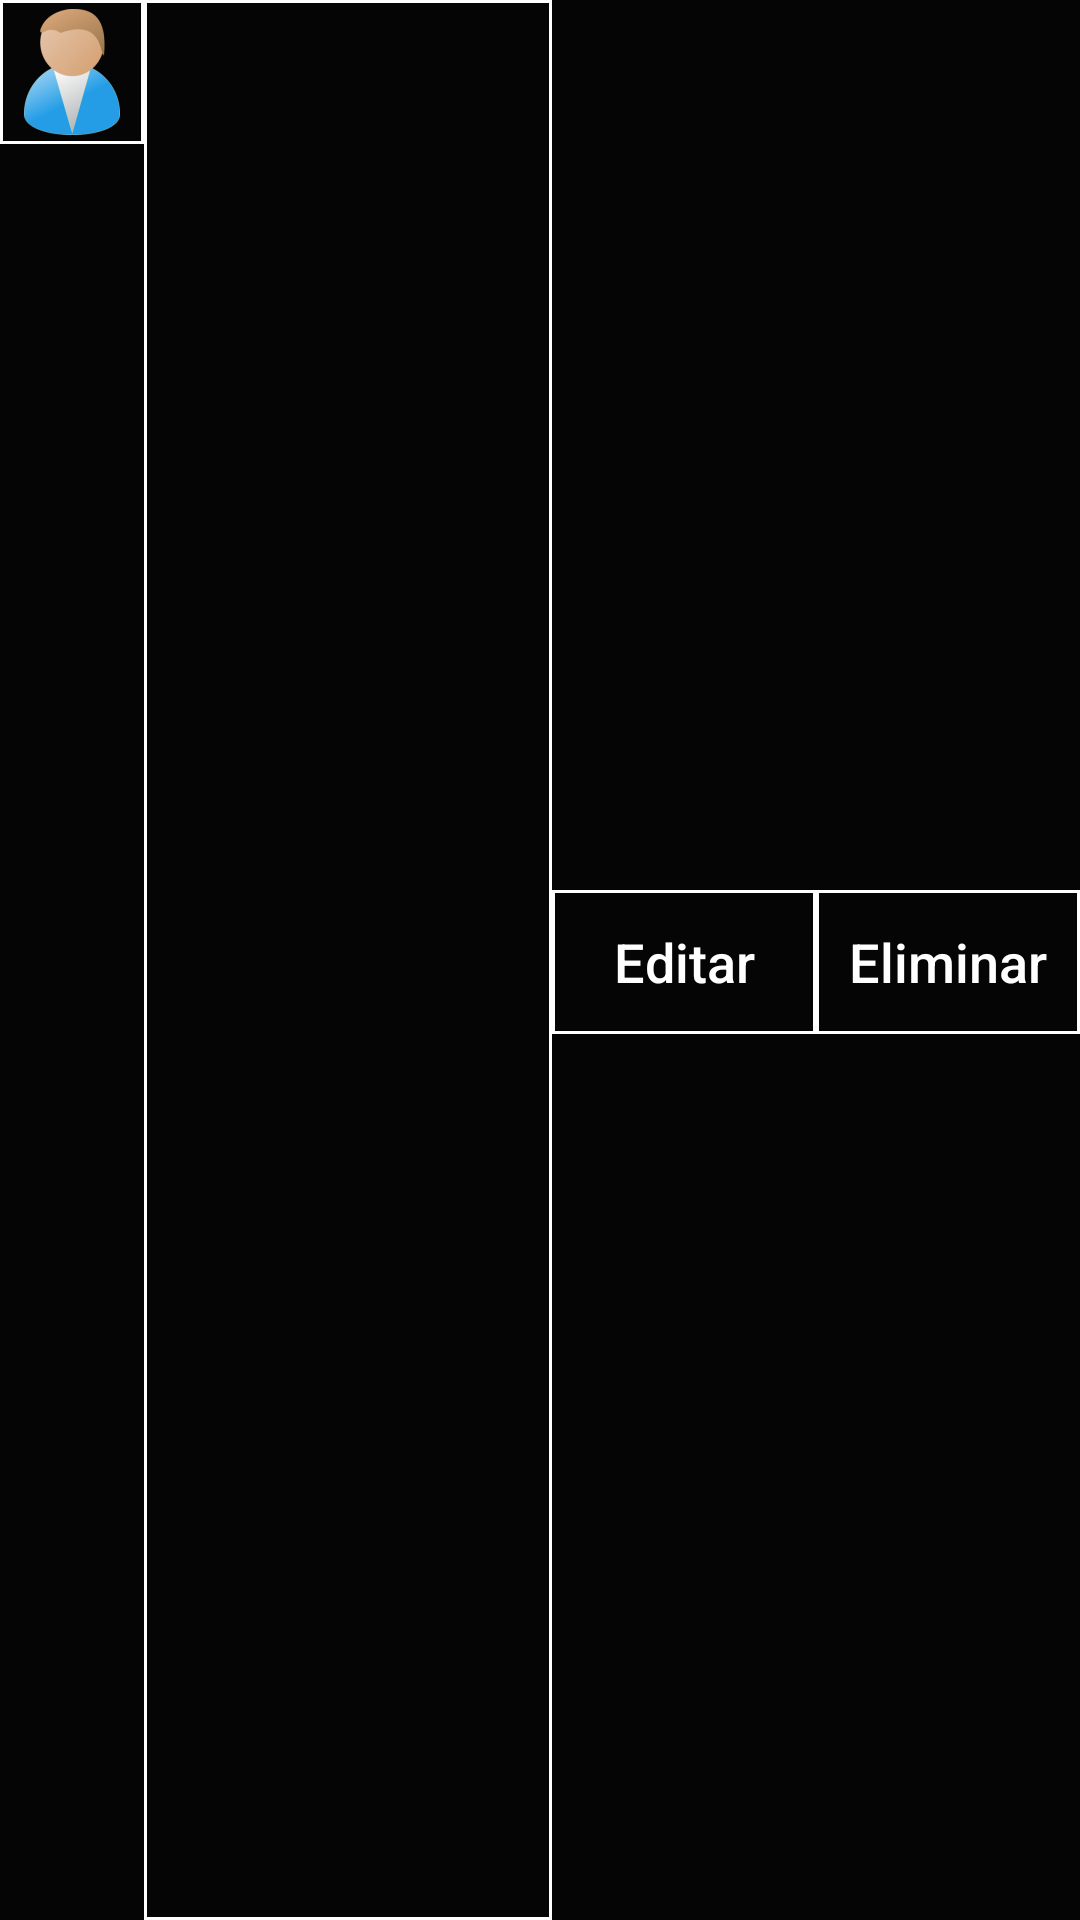

Where to tap for icons on this 1080*1920 app screen, as point (x, y):
contact: point (72, 72)
